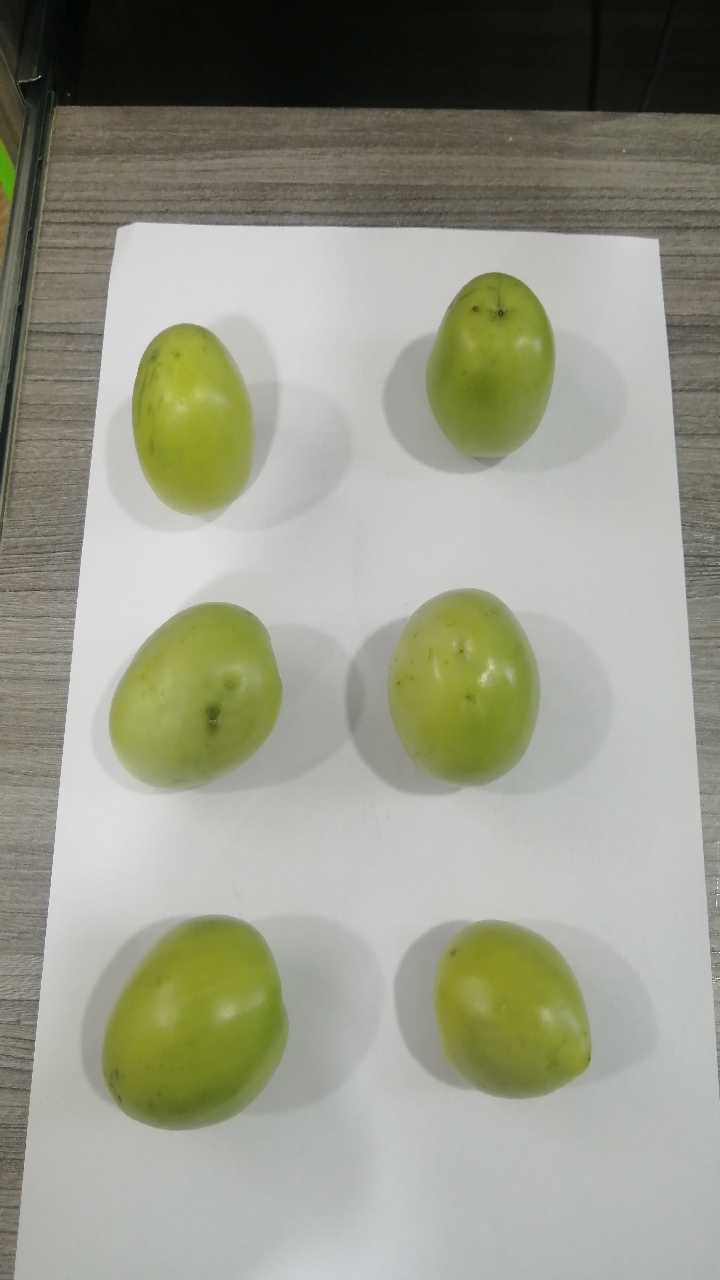tomateVerde: (77, 894, 315, 1145), (92, 574, 295, 822), (414, 883, 615, 1117), (357, 575, 557, 802), (112, 306, 292, 539), (417, 259, 575, 463)
